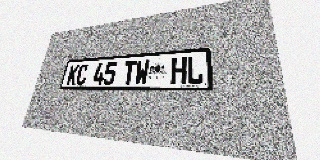4: (92, 63, 106, 85)
5: (102, 62, 117, 85)
C: (75, 64, 89, 85)
H: (171, 57, 187, 84)
K: (66, 64, 80, 85)
L: (187, 55, 203, 84)
T: (122, 60, 137, 85)
W: (134, 59, 150, 85)
